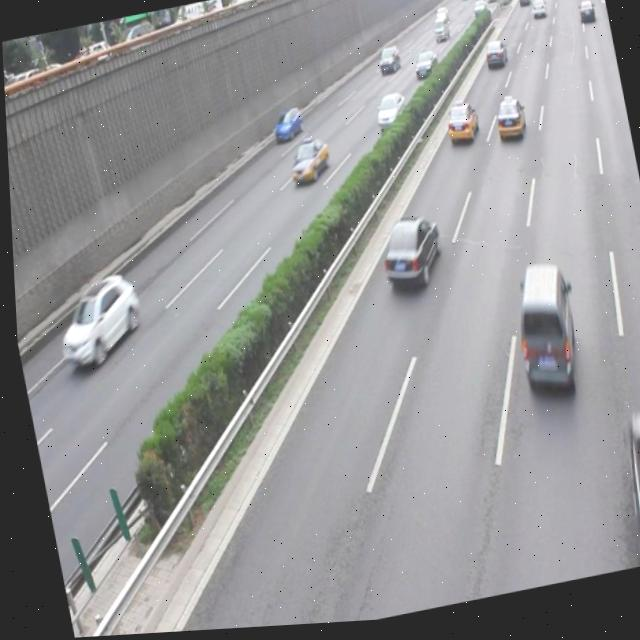car: (47, 269, 146, 373), (372, 215, 443, 295), (608, 408, 640, 575), (282, 138, 331, 191), (489, 99, 527, 150), (441, 102, 479, 151), (267, 108, 305, 148), (371, 94, 407, 134)
truck: (500, 261, 581, 403)
